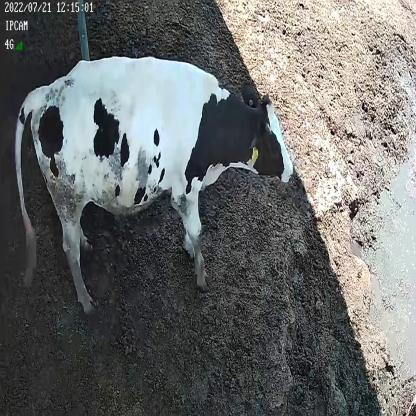cow: (12, 54, 293, 310)
